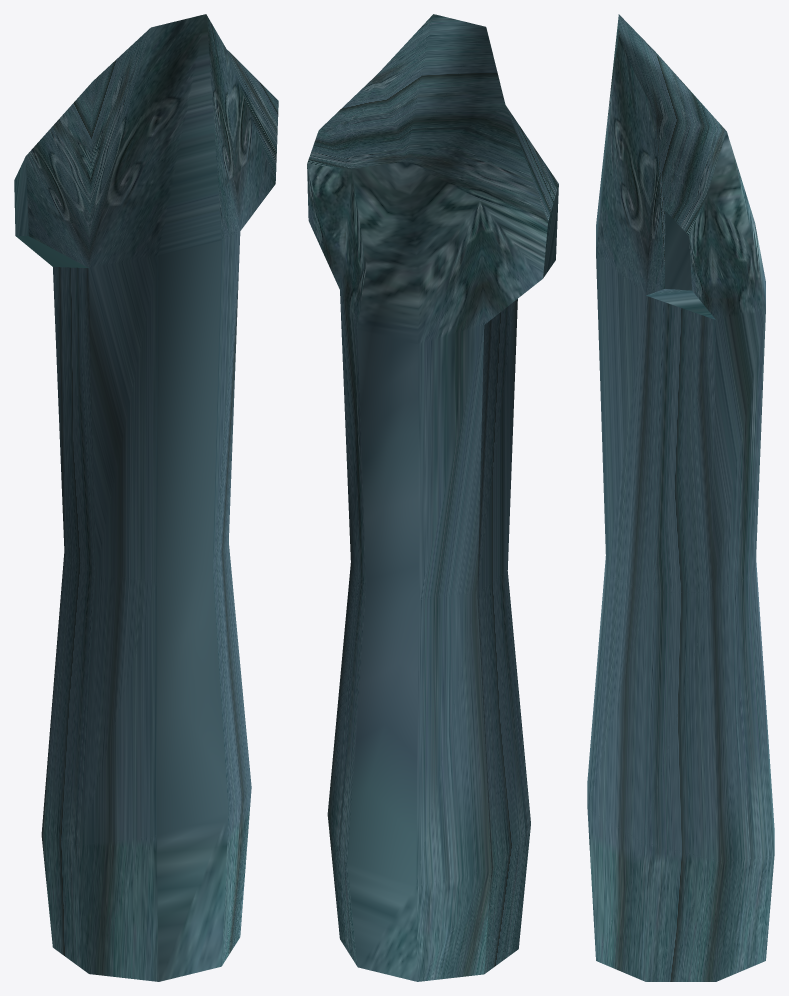
Rendered from tikki1.obj.
3 renders of one model, left to right at view 1: azimuth 30°, elevation 25°; view 2: azimuth 150°, elevation 25°; view 3: azimuth 270°, elevation 25°, orthographic. The views are drawn at different scales.
Visible parts, largest first — view 1: tikki1; view 2: tikki1; view 3: tikki1.
Part boxes in pixels (<box>): tikki1: <box>14,14,278,981</box>; tikki1: <box>307,14,558,981</box>; tikki1: <box>587,14,774,981</box>.
Bounding box in the file's own units: 7.91 × 28.28 × 5.22.
1 material, 1 textured.
